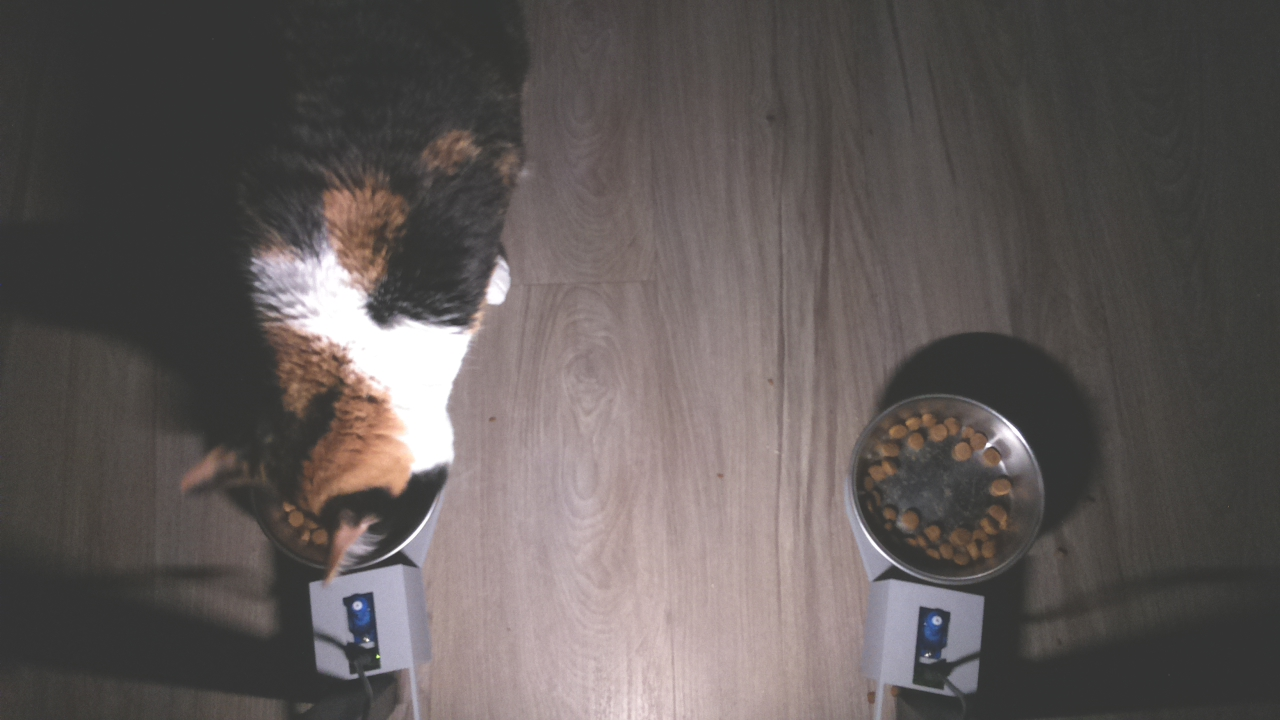bella_eating: (178, 313, 505, 589)
open_bowl: (842, 389, 1045, 583)
